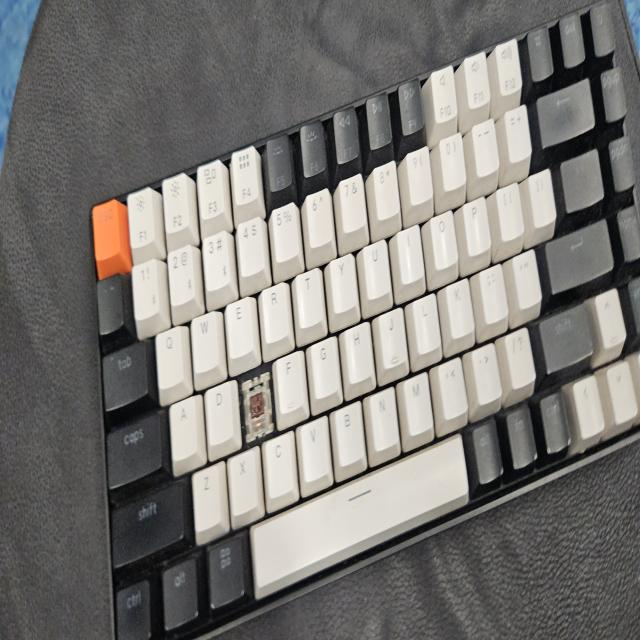C: (245, 382, 266, 425)
